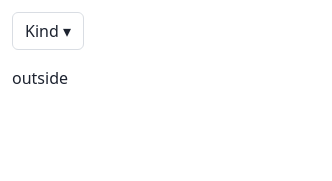
it: FilterMenu › opens and closes with the button, Escape and an outside click
Later steps or results of the test are not shown.
Click the button "Kind ▾": point(48, 31) [12, 12, 84, 50]
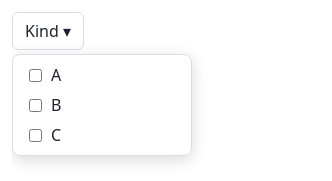
Now the number of checkboxes is 3, box [29, 68, 42, 82]; [29, 98, 42, 112]; [29, 128, 42, 142]
